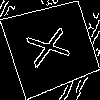X: (26, 22, 79, 69)
